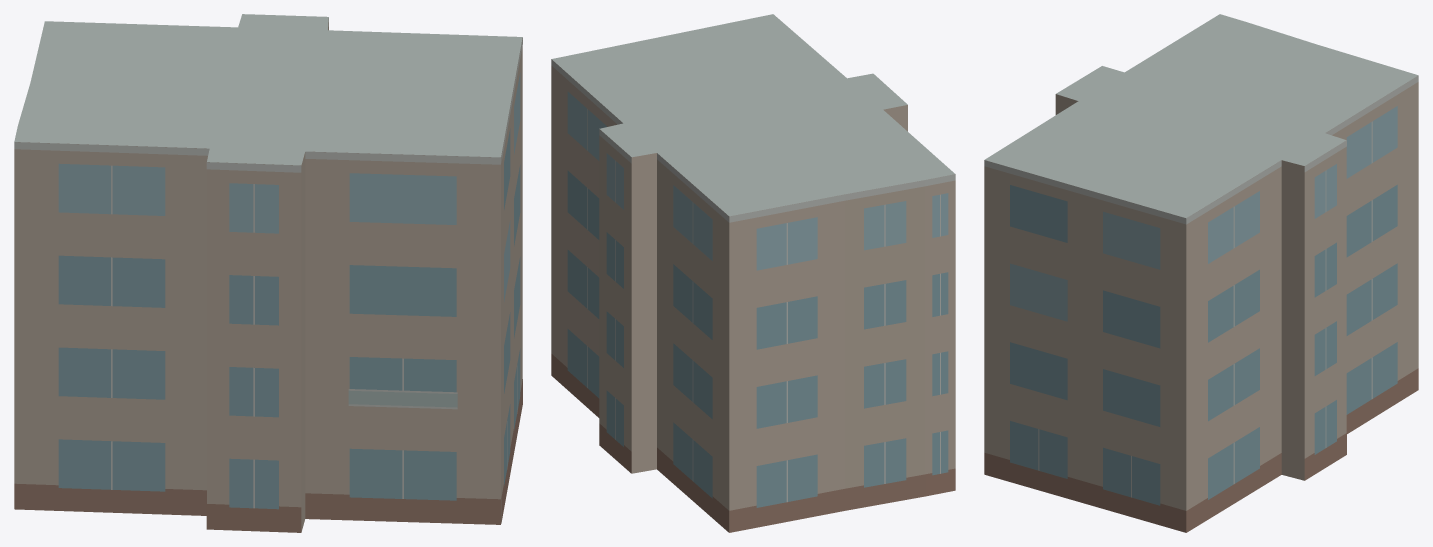
The model's file is survey-upis-32747974.glb.
3 views of the same model, side by side, from view 1: azimuth 30°, elevation 25°; view 2: azimuth 150°, elevation 25°; view 3: azimuth 270°, elevation 25° (orthographic). The views are drawn at different scales.
Visible parts, largest first — view 1: survey-upis-32747974.tmp; view 2: survey-upis-32747974.tmp; view 3: survey-upis-32747974.tmp.
Part boxes in pixels (<box>): survey-upis-32747974.tmp: <box>14,14,522,532</box>; survey-upis-32747974.tmp: <box>551,14,955,532</box>; survey-upis-32747974.tmp: <box>984,14,1418,532</box>.
Bounding box in the file's own units: 16.99 × 12.2 × 15.27.
